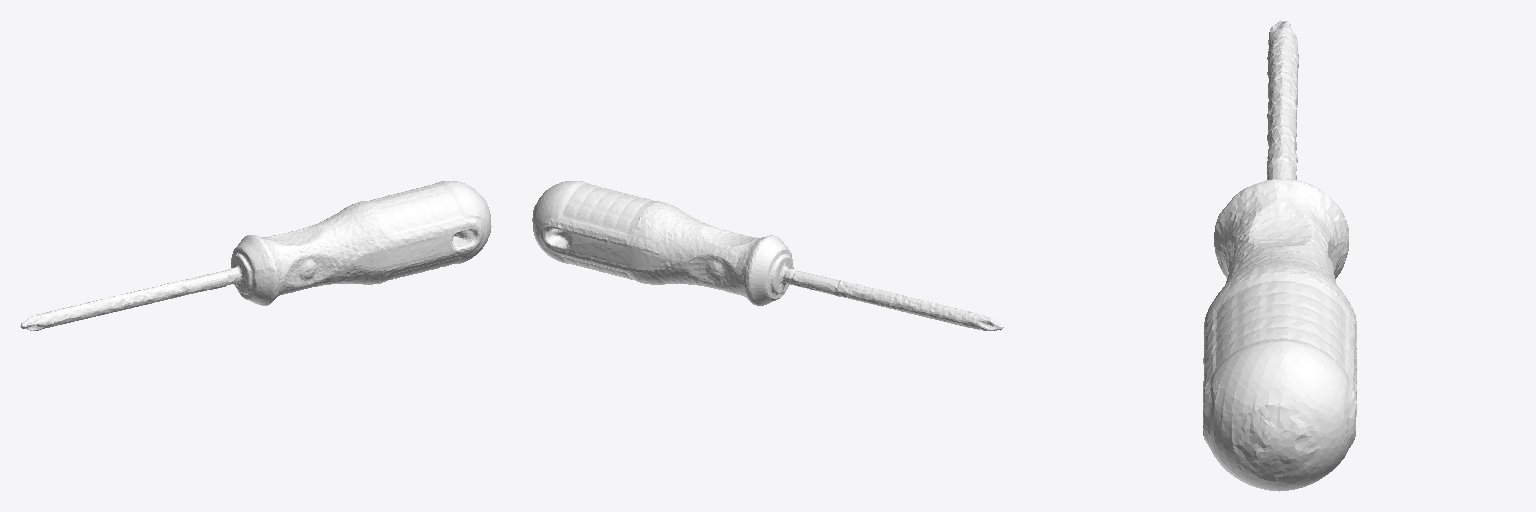
URDF robot description (screwdriver_sim2real):
<?xml version="1.0" ?>
<robot name="screwdriver_sim2real">
  <link name="_name">
  
    <visual>
      <origin rpy="0 0 1.5708" xyz="0 0 0" />
      <geometry>
        <mesh filename="textured.obj" scale="1 1 1" />
      </geometry>
      <material name="white">
        <color rgba="1.0 1.0 1.0 1.0" />
      </material>
    </visual>
    
    <collision>
      <origin rpy="0 0 1.5708" xyz="0 0 0" />
      <geometry>
        <mesh filename="textured_vhacd.obj" scale="1 1 1" />
      </geometry>
    </collision>
    
    <inertial>
      <origin rpy="0 0 0" xyz="0.0 0.0 0.0" />
      <mass value="0.093" />
      <inertia ixx="1.0" ixy="0.0" ixz="0.0" iyy="1.0" iyz="0.0" izz="1.0" />
    </inertial>
    
  </link>
</robot>

--- Render facts (derived) ---
The picture shows the robot from 3 angles, left to right: view 1: azimuth 30°, elevation 25°; view 2: azimuth 150°, elevation 25°; view 3: azimuth 270°, elevation 25°; orthographic projection.
Robot: screwdriver_sim2real — 1 links, 0 joints (none); root link _name; default pose: every joint at zero.
Visible links, largest first — view 1: _name; view 2: _name; view 3: _name.
Boxes of the visible links, bbox=[...] form: _name: bbox=[20, 181, 491, 330]; _name: bbox=[532, 181, 1003, 330]; _name: bbox=[1203, 20, 1356, 491].
Bounding box of the posed robot: 0.2162 × 0.0335 × 0.0342 m (x, y, z).
Meshes: 1 distinct files referenced, 1 mesh visuals loaded (1 OBJ).
